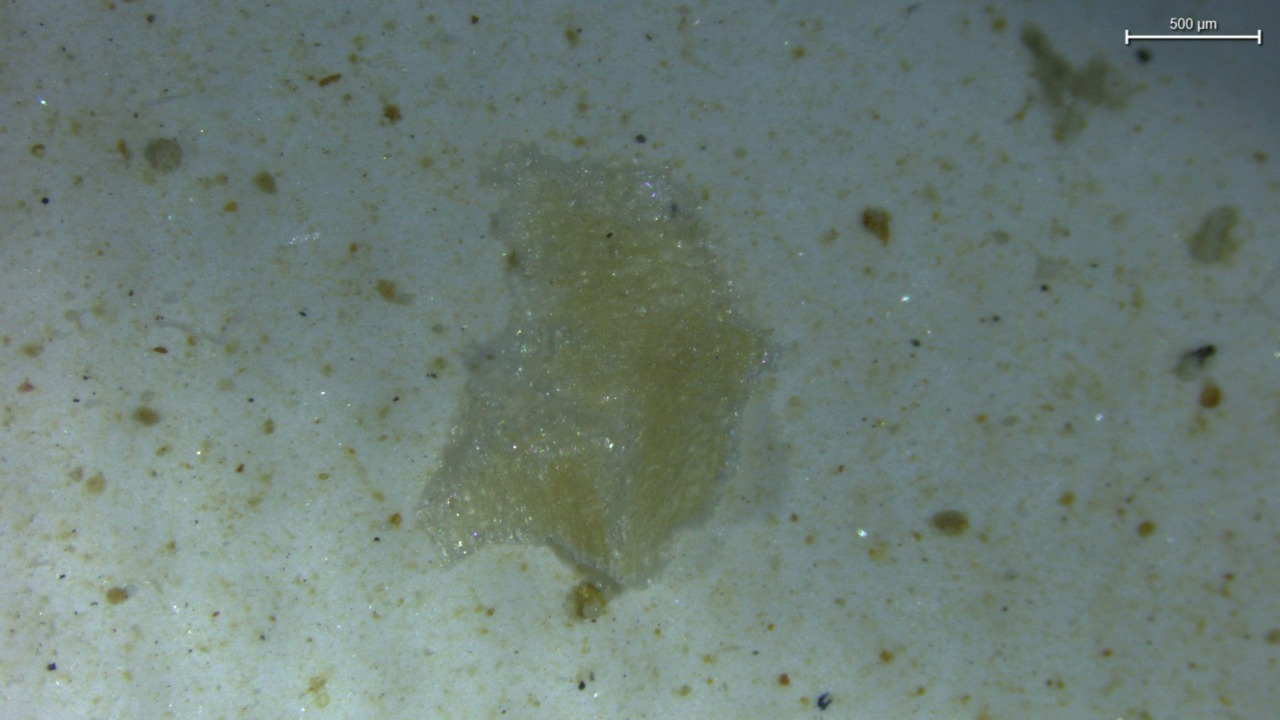microplastic_fragment: (422, 149, 769, 587)
